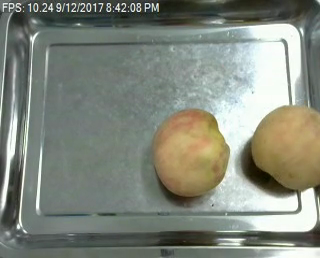Peach: (151, 108, 229, 195), (250, 104, 319, 190)
